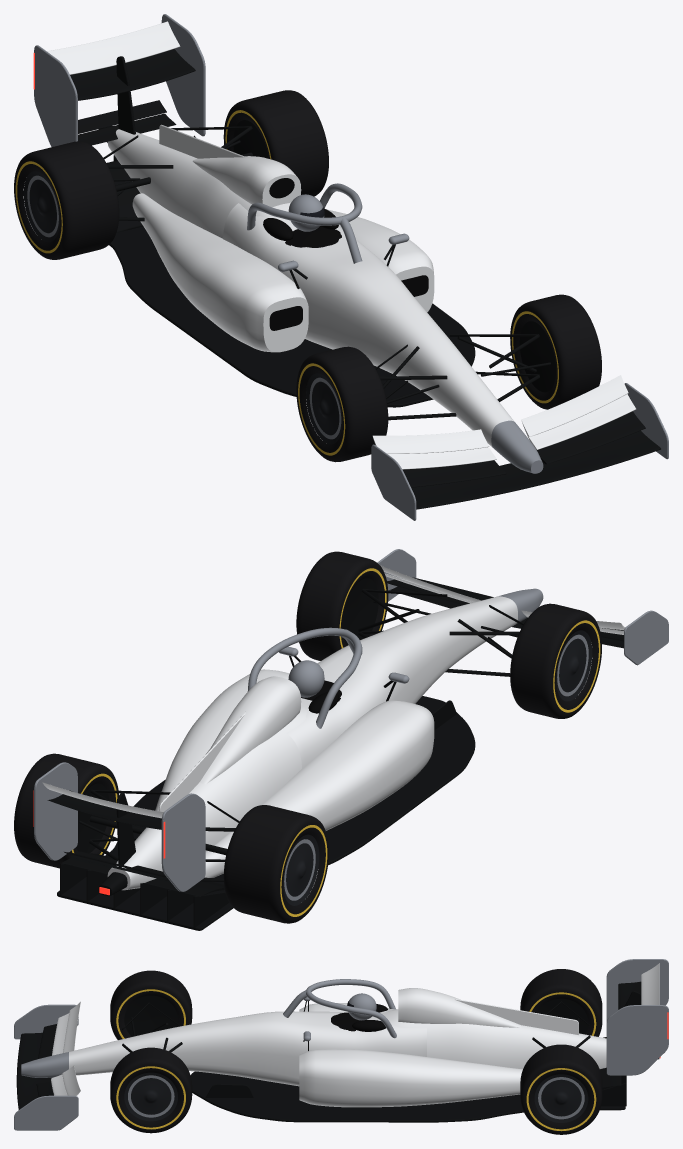
File: formula-car.glb
3 views of the same model, one above another, from view 1: azimuth 30°, elevation 25°; view 2: azimuth 150°, elevation 25°; view 3: azimuth 270°, elevation 25° (orthographic). The views are drawn at different scales.
Parts seen in each view (by area): view 1: Car_paint, Car_carbon, Car_rubber, Car_paint2, Car_rim, Car_dark, Car_stripe; view 2: Car_paint, Car_carbon, Car_rubber, Car_paint2, Car_rim, Car_stripe; view 3: Car_paint, Car_carbon, Car_paint2, Car_rubber, Car_rim, Car_stripe, Car_dark.
Part boxes in pixels (x1,y1,x2,y2): Car_paint: [47, 21, 636, 469]; Car_carbon: [70, 49, 660, 509]; Car_rubber: [14, 90, 601, 462]; Car_paint2: [27, 14, 668, 520]; Car_rim: [23, 171, 342, 444]; Car_dark: [263, 178, 428, 330]; Car_stripe: [15, 110, 558, 455]; Car_paint: [42, 565, 625, 890]; Car_carbon: [47, 577, 623, 930]; Car_rubber: [14, 551, 601, 923]; Car_paint2: [34, 549, 668, 900]; Car_rim: [283, 630, 592, 905]; Car_stripe: [72, 568, 600, 916]; Car_paint: [51, 963, 659, 1107]; Car_carbon: [16, 981, 659, 1122]; Car_paint2: [14, 959, 668, 1130]; Car_rubber: [110, 969, 602, 1134]; Car_rim: [124, 1072, 588, 1122]; Car_stripe: [116, 989, 596, 1131]; Car_dark: [331, 1004, 387, 1031].
Bounding box in the file's own units: 1.99 × 1.03 × 5.75.
